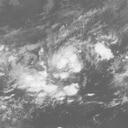cyclone: (46, 36, 89, 82)
